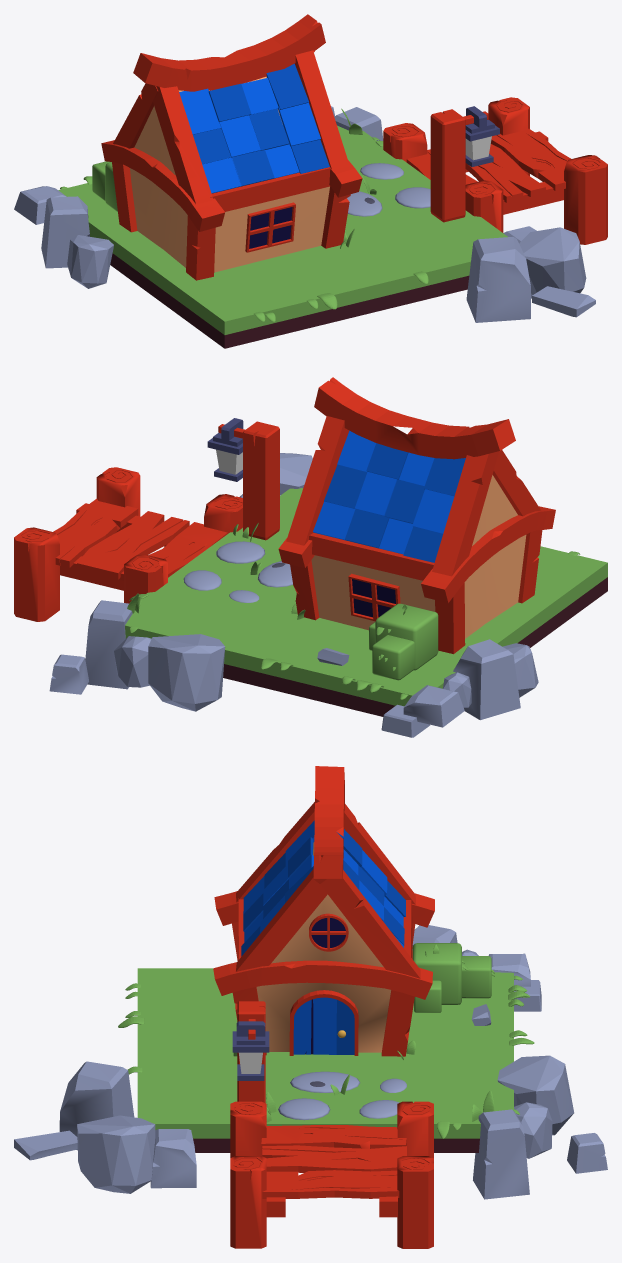
Rendered from casa.gltf.
3 renders of one model, top to bottom at view 1: azimuth 30°, elevation 25°; view 2: azimuth 150°, elevation 25°; view 3: azimuth 270°, elevation 25°, orthographic. The views are drawn at different scales.
Visible parts, largest first — view 1: SUELO-CESPED, PAREDES, Cubo.004, SUELO-SUB, Cubo.103, Cubo.046, Cubo.045, Cubo.102, Cubo.007, Cubo.026, Cubo.056, Cubo.038 (+37 smaller); view 2: SUELO-CESPED, PAREDES, Cubo.004, Cubo.055, Cubo.046, Cubo, Cubo.006, SUELO-SUB, Cubo.056, Cubo.041, Cubo.026, Cubo.005 (+41 smaller); view 3: SUELO-CESPED, PAREDES, Cubo.102, Cubo.001, Cubo.052, Cubo.103, Cubo.038, Cubo.055, Cubo.041, Cubo.005, Cubo.004, Cubo.045 (+28 smaller).
Boxes of the visible parts, x1,y1,x2,y2 form: SUELO-CESPED: [58, 125, 507, 334]; PAREDES: [130, 76, 329, 272]; Cubo.004: [133, 14, 325, 91]; SUELO-SUB: [110, 253, 469, 348]; Cubo.103: [466, 237, 530, 322]; Cubo.046: [430, 109, 465, 222]; Cubo.045: [564, 155, 607, 244]; Cubo.102: [519, 227, 586, 298]; Cubo.007: [153, 86, 213, 204]; Cubo.026: [101, 140, 224, 231]; Cubo.056: [41, 196, 89, 268]; Cubo.038: [491, 128, 570, 190]; SUELO-CESPED: [125, 488, 607, 706]; PAREDES: [311, 475, 526, 638]; Cubo.004: [314, 377, 515, 459]; Cubo.055: [148, 634, 225, 711]; Cubo.046: [243, 421, 279, 540]; Cubo: [14, 527, 59, 621]; Cubo.006: [432, 451, 498, 576]; SUELO-SUB: [223, 577, 607, 716]; Cubo.056: [453, 639, 520, 720]; Cubo.041: [77, 511, 189, 579]; Cubo.026: [421, 506, 555, 603]; Cubo.005: [286, 416, 349, 545]; SUELO-CESPED: [137, 968, 513, 1138]; PAREDES: [256, 842, 391, 1052]; Cubo.102: [77, 1115, 155, 1193]; Cubo.001: [213, 960, 432, 999]; Cubo.052: [473, 1109, 529, 1199]; Cubo.103: [59, 1061, 134, 1149]; Cubo.038: [262, 1170, 399, 1198]; Cubo.055: [497, 1055, 574, 1135]; Cubo.041: [262, 1145, 406, 1172]; Cubo.005: [313, 870, 420, 978]; Cubo.004: [313, 766, 344, 878]; Cubo.045: [230, 1156, 266, 1248].
Size of what is drawn, in the model's own units: 529 by 264 by 527.
